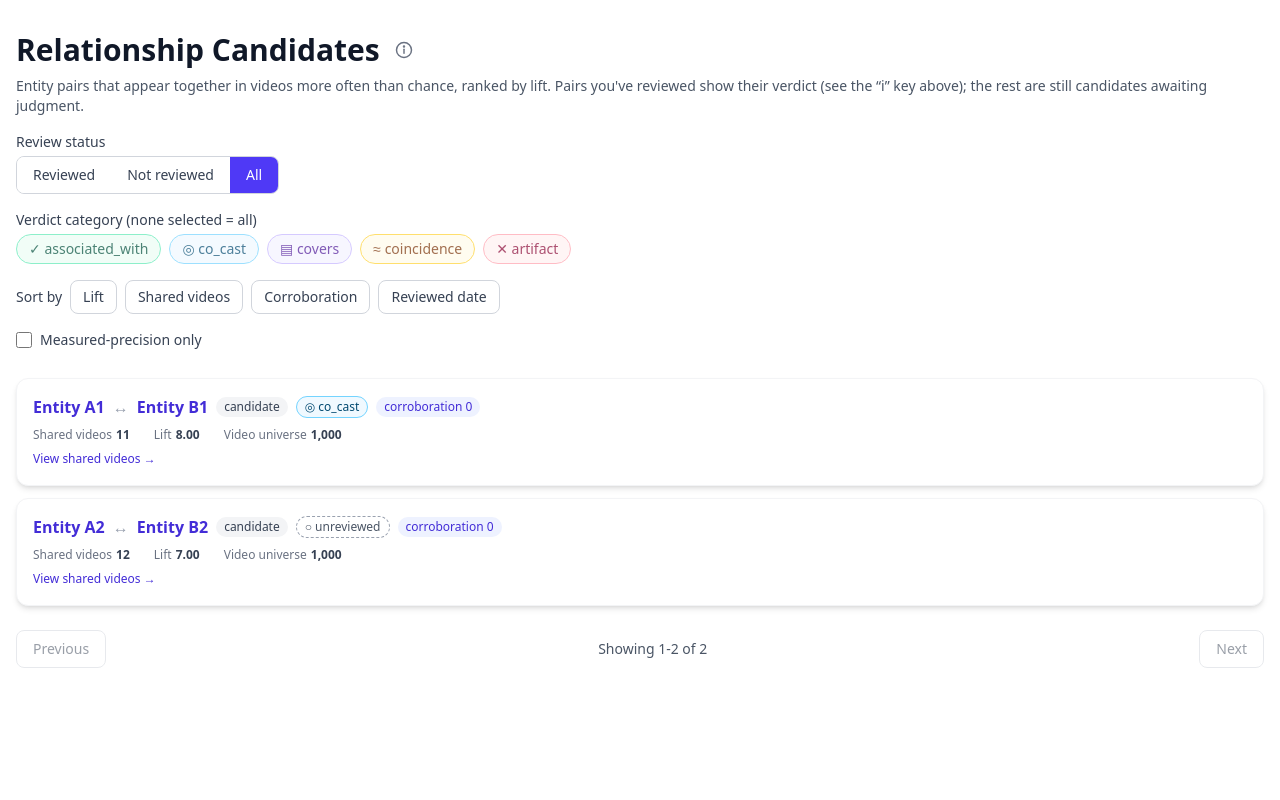
Test case: RelationshipCandidatesPage › review toggle sets the review param, resets offset, and changes the shown set
Expected: the number of list items is 2, top-left (16, 378), bottom-right (1264, 486); top-left (16, 498), bottom-right (1264, 606)
Click the radio button labelled "Reviewed" at point(64, 175), box top-left (17, 157), bottom-right (111, 193)
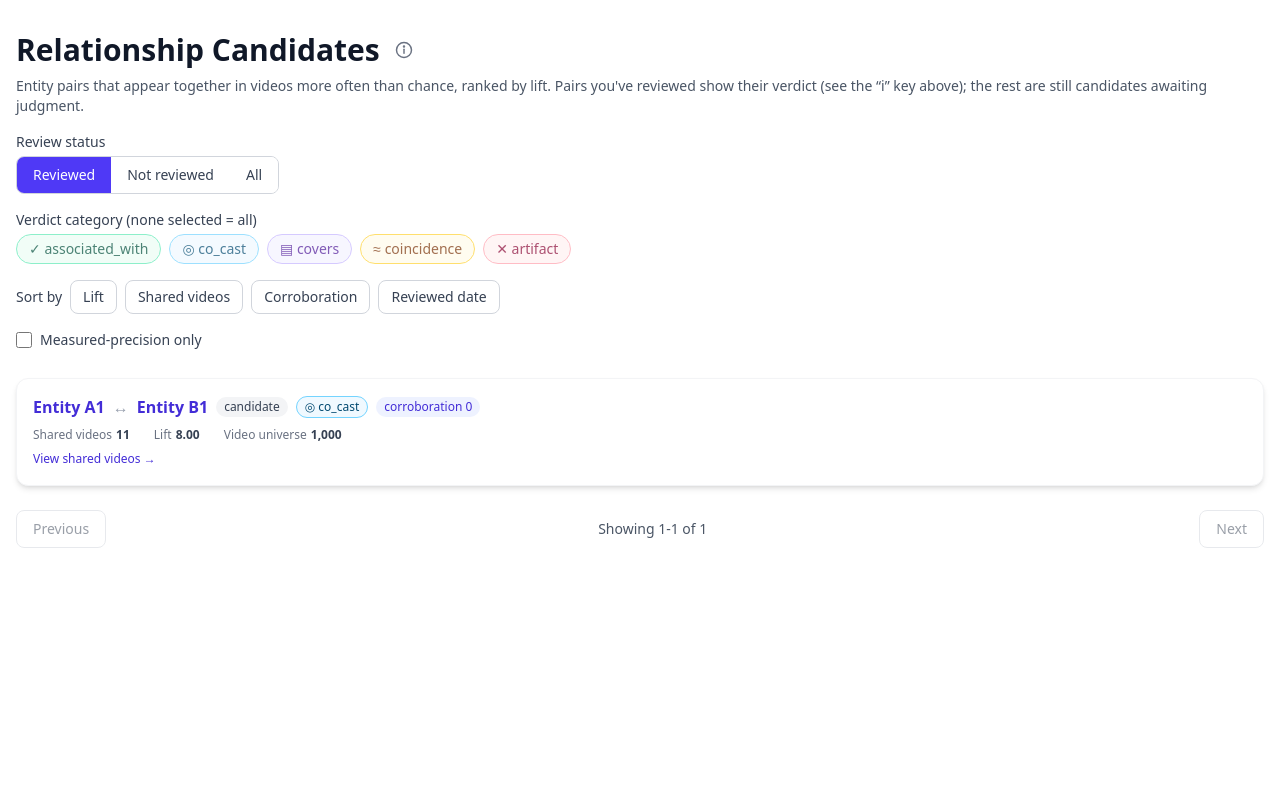
Expected: the number of list items is 1, top-left (16, 378), bottom-right (1264, 486)
Click the radio button labelled "Not reviewed" at point(171, 175), box top-left (111, 157), bottom-right (230, 193)
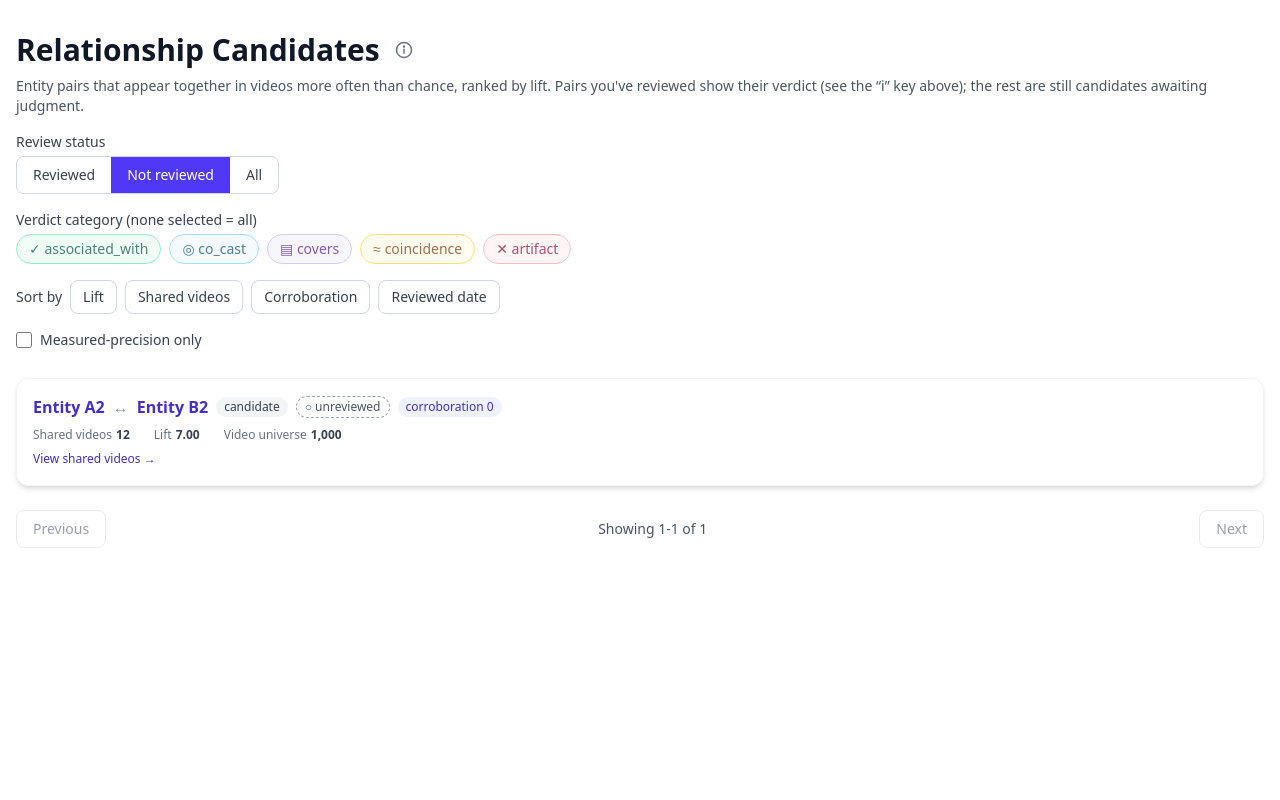
Expected: the link "Entity A2" is shown, top-left (33, 396), bottom-right (105, 418)
Expected: the link "Entity A1" is gone
